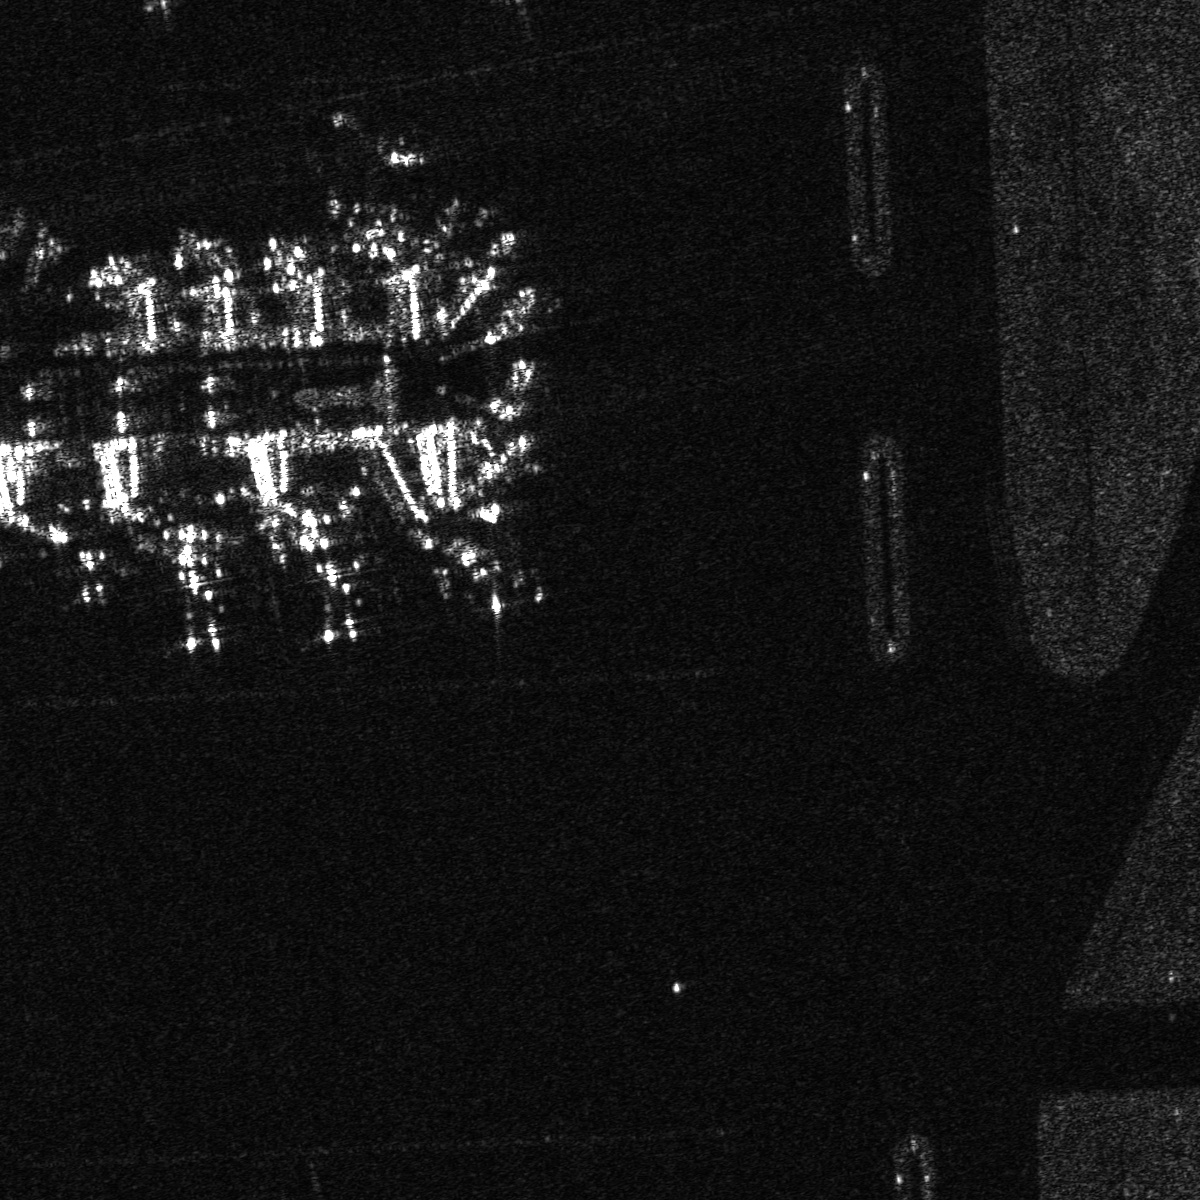A220: (325, 136, 427, 245), (51, 541, 131, 610)
Boeing737: (423, 529, 537, 629)
Boeing787: (138, 537, 248, 660)
other: (289, 526, 389, 645)
